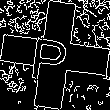P_N: (33, 27, 77, 83)
